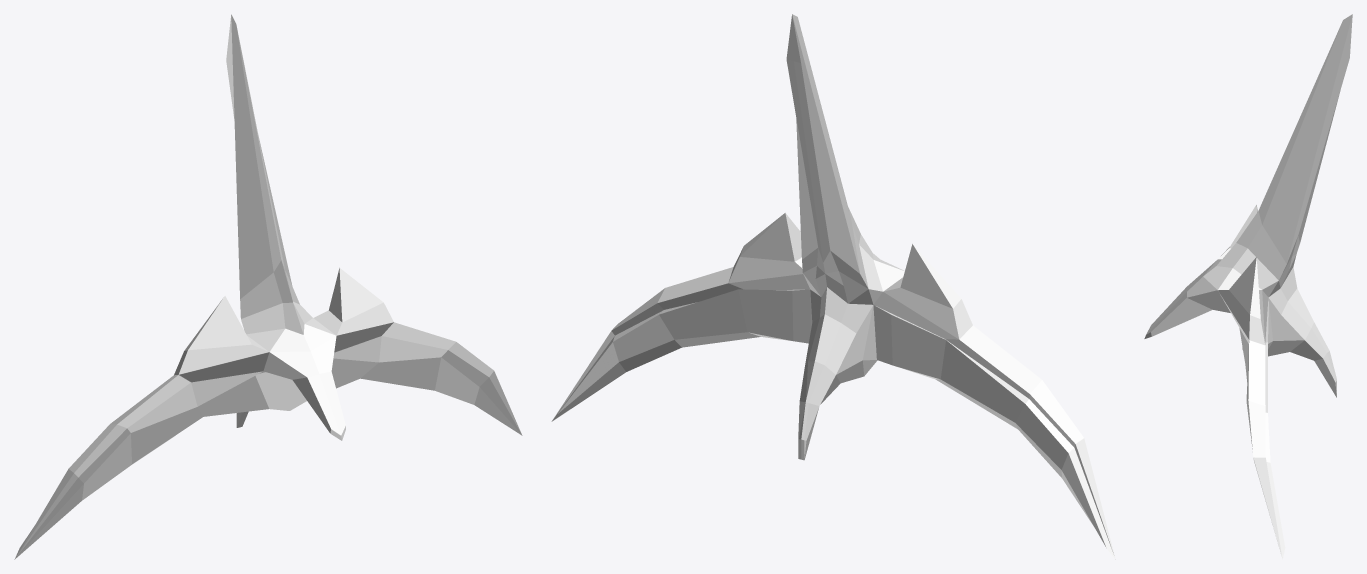
Rendered from head_47.fbx.
3 renders of one model, left to right at view 1: azimuth 30°, elevation 25°; view 2: azimuth 150°, elevation 25°; view 3: azimuth 270°, elevation 25°, orthographic. The views are drawn at different scales.
Visible parts, largest first — view 1: Cube.182; view 2: Cube.182; view 3: Cube.182.
Part boxes in pixels (left/top/right/bottom): Cube.182: left=14, top=14, right=522, bottom=559; Cube.182: left=551, top=14, right=1115, bottom=559; Cube.182: left=1144, top=14, right=1352, bottom=559.
Size of the model in its own units: 216 by 186 by 81.66.
